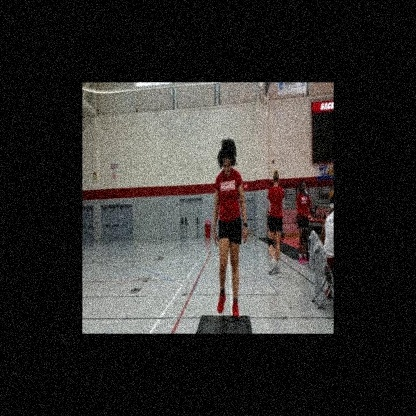lateral_flexion_right: (212, 134, 249, 326)
stance_width_narrow: (212, 168, 247, 325)
